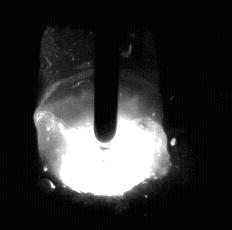arame: (95, 0, 119, 143)
poca: (37, 0, 168, 230)
